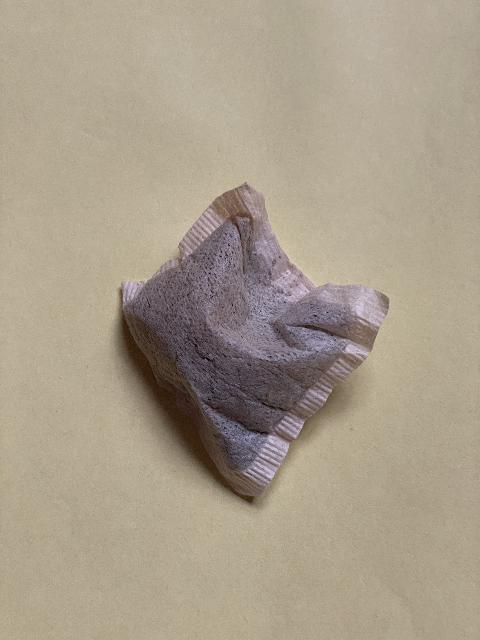teabag: (121, 180, 391, 500)
